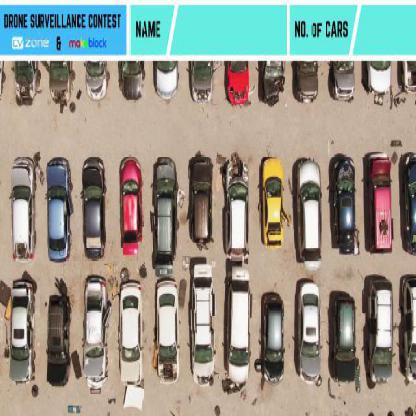car: (151, 159, 181, 271), (79, 161, 108, 263), (7, 285, 36, 386), (46, 159, 74, 263), (84, 274, 110, 386), (226, 267, 250, 387), (365, 277, 393, 376), (118, 156, 144, 260), (298, 168, 325, 268), (11, 163, 38, 262), (333, 156, 359, 256), (297, 285, 323, 383), (121, 280, 143, 386), (261, 164, 287, 252), (158, 278, 179, 384), (369, 165, 393, 256), (193, 282, 216, 375), (333, 298, 356, 390), (188, 155, 212, 243), (225, 167, 249, 255), (48, 290, 70, 382), (262, 299, 285, 383), (402, 147, 415, 260), (366, 60, 396, 104), (401, 282, 415, 372), (226, 63, 252, 106), (14, 61, 38, 107), (294, 61, 320, 103), (332, 61, 358, 102), (192, 63, 215, 106), (263, 63, 285, 106), (155, 61, 178, 101), (121, 61, 145, 99), (49, 63, 73, 96), (85, 64, 107, 100)
